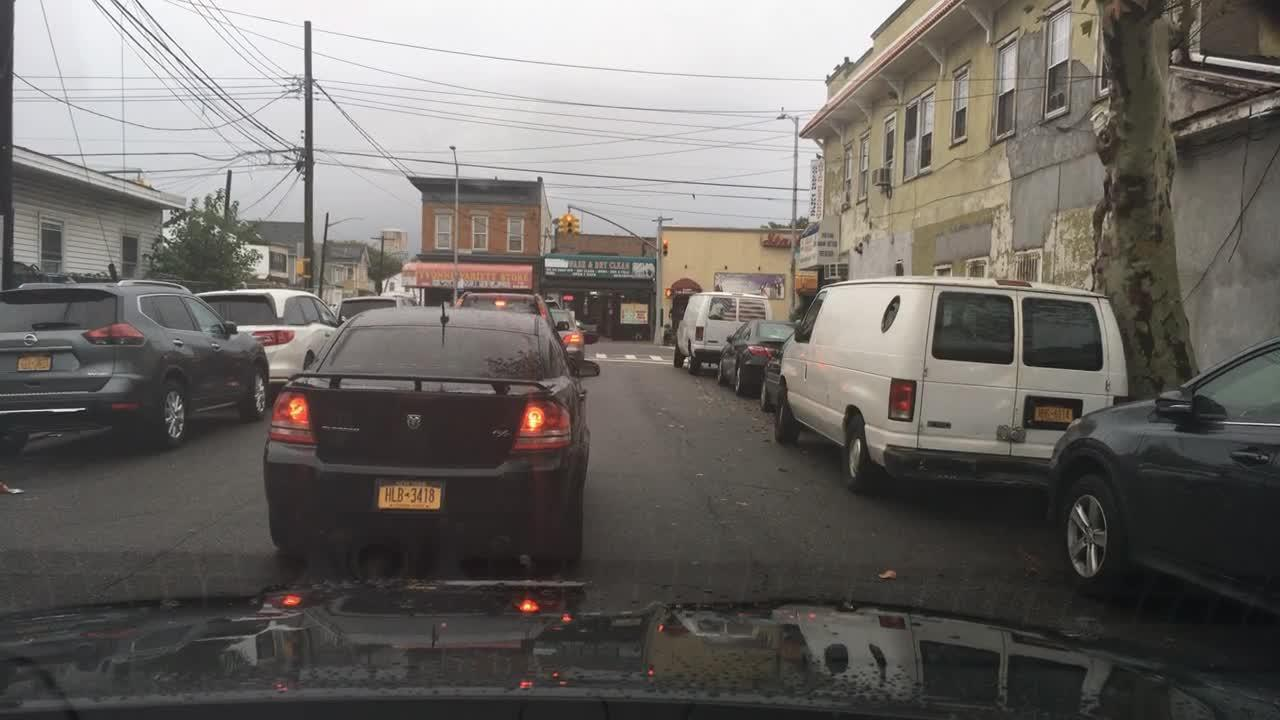Nissan: (16, 322, 42, 352)
ram: (404, 412, 424, 433)
